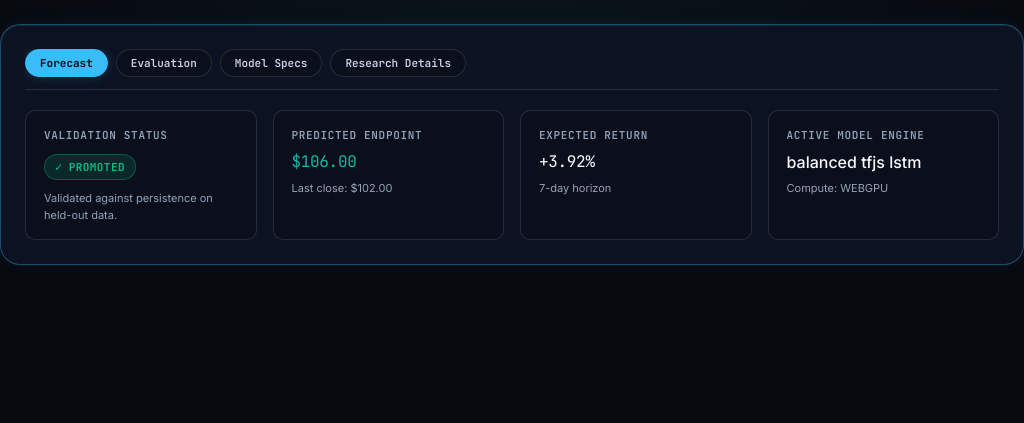
MetricsCard component › switches tabs smoothly to show evaluation matrix and model specs
The width and height of the screenshot is (1024, 423).
Switch to Evaluation tab
Step 1. Click the tab "Evaluation" → (164, 63), box [116,49,212,77]
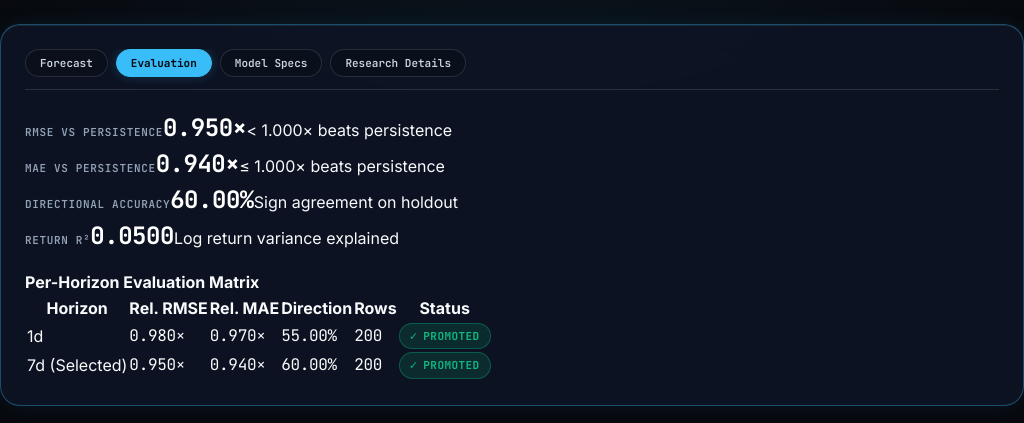
Now the heading "Per-Horizon Evaluation Matrix" is shown, box [25,272,259,292]
Switch to Model Specs tab
Step 2. Click the tab "Model Specs" → (271, 63), box [220,49,322,77]
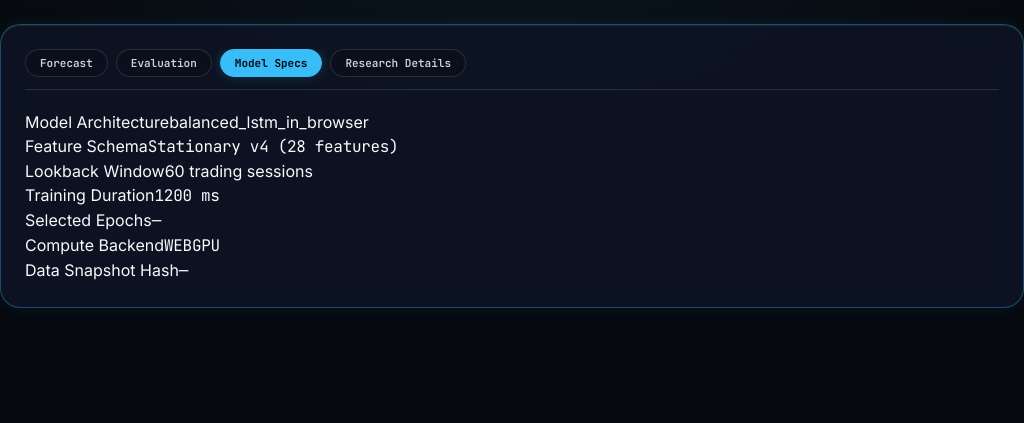
Now the text "Stationary v4 (28 features)" is shown, box [148,136,398,157]
Now the text "60 trading sessions" is shown, box [165,161,313,181]
